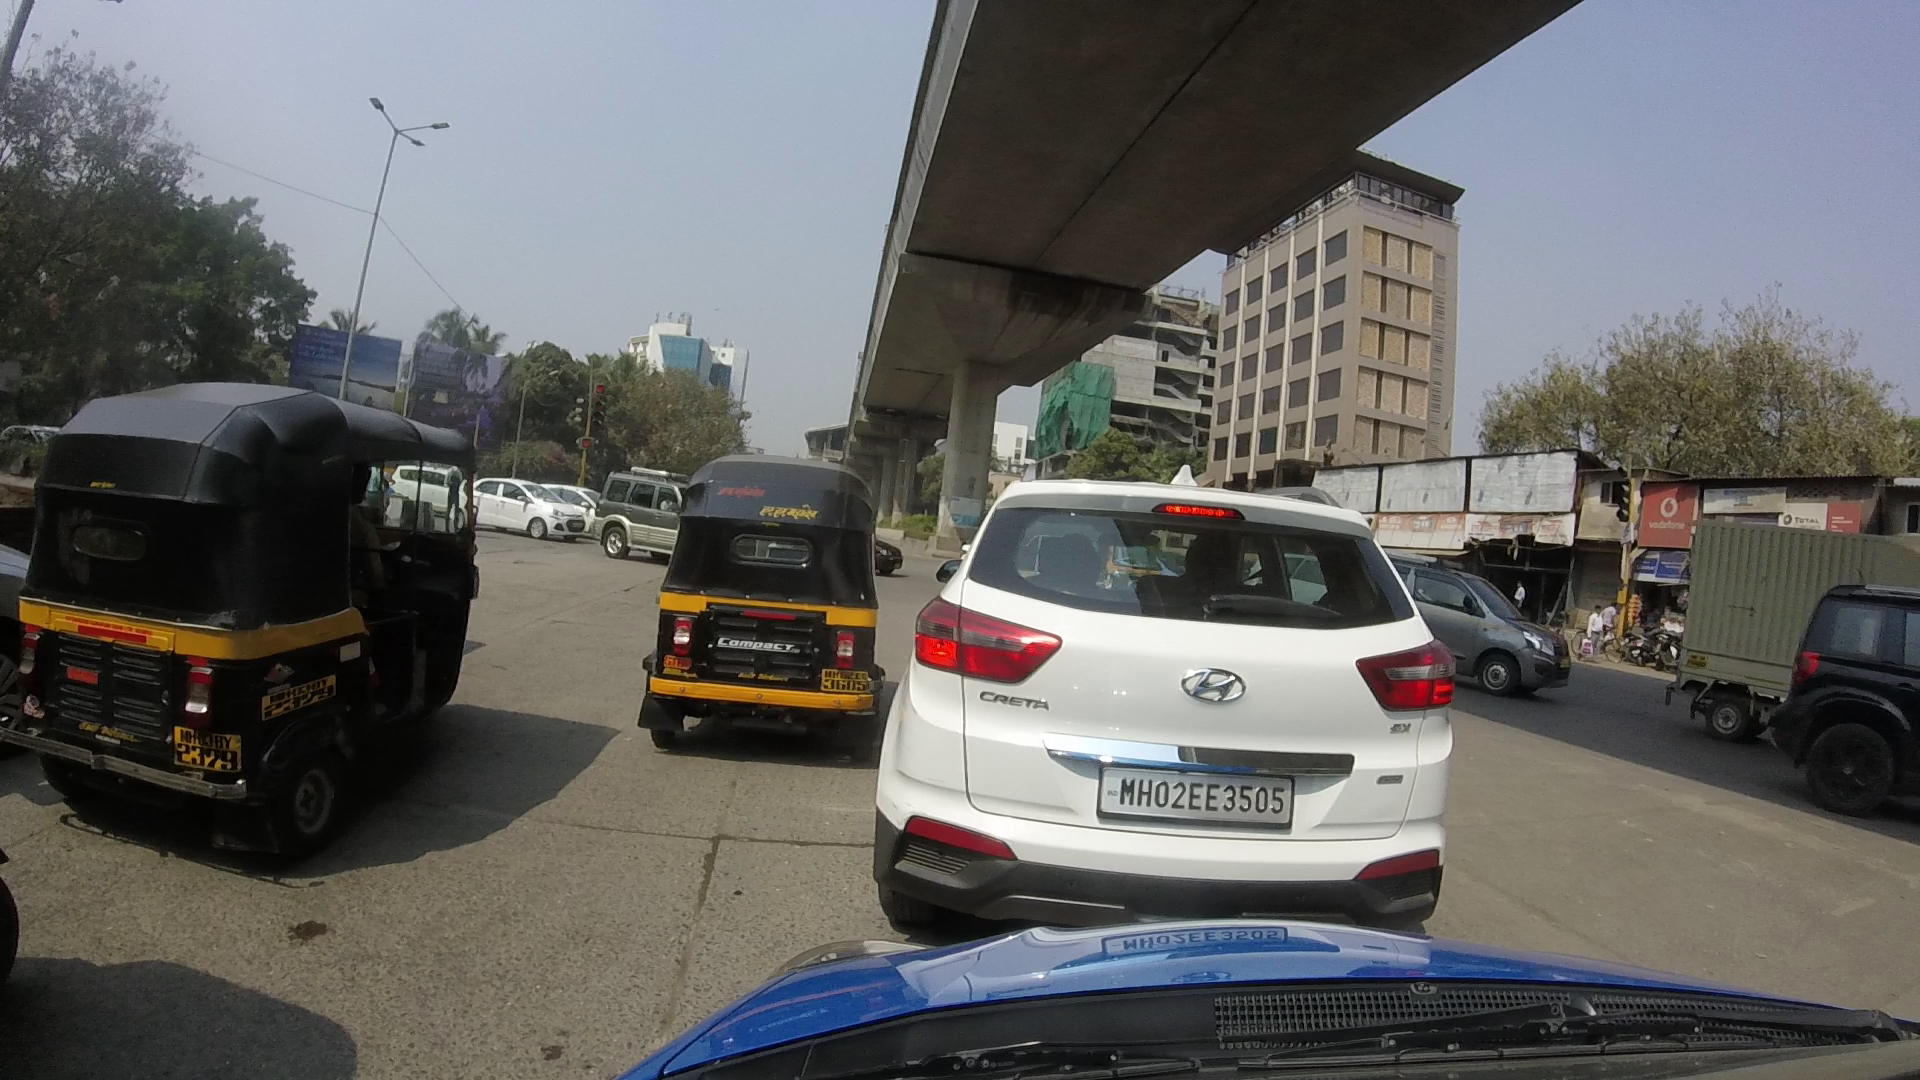car: (876, 469, 1466, 942), (1364, 551, 1572, 704), (1789, 580, 1920, 782), (589, 458, 684, 566), (472, 465, 578, 535)
rickshaw: (13, 367, 469, 855), (637, 442, 878, 742)
truck: (1687, 520, 1920, 723)
